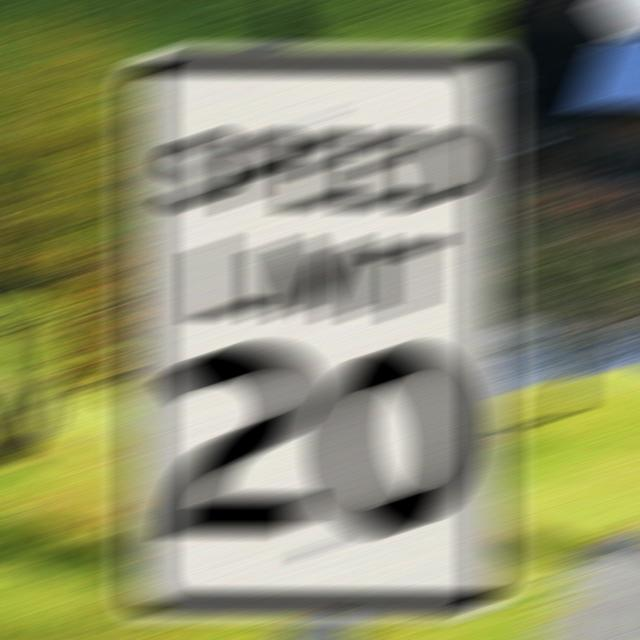speedLimit20: (130, 62, 503, 600)
